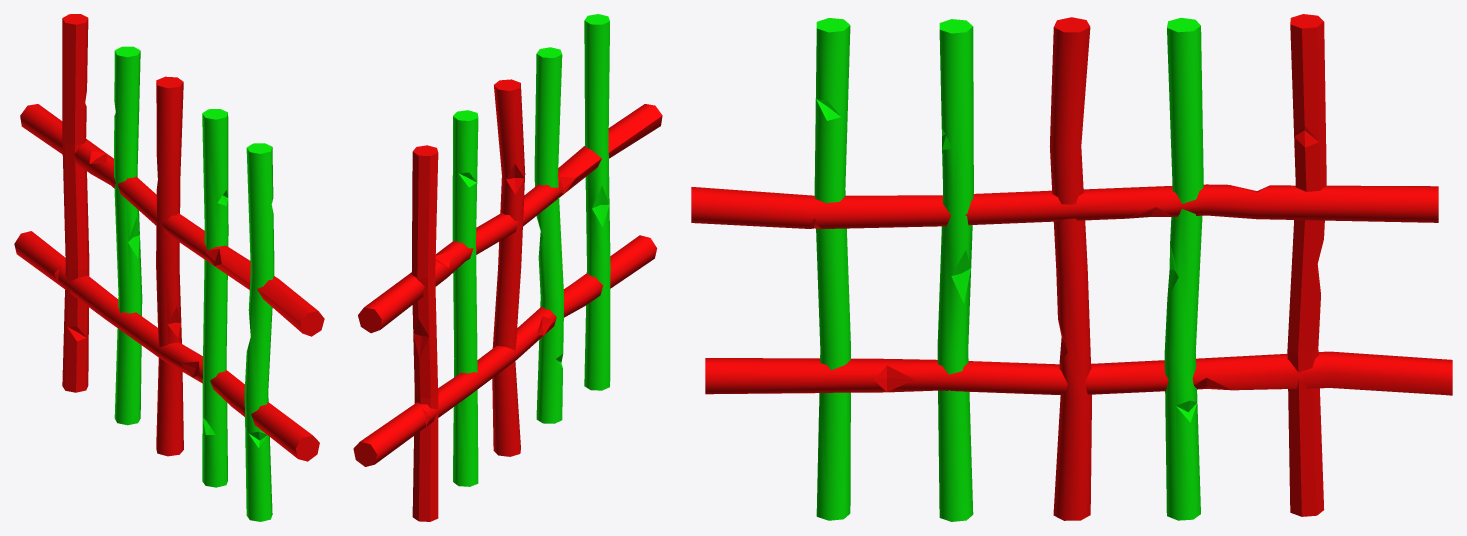
The model's file is SM_Grill_1.fbx.
The picture shows the model from 3 angles, left to right: view 1: azimuth 30°, elevation 25°; view 2: azimuth 150°, elevation 25°; view 3: azimuth 270°, elevation 25°; orthographic projection. The views are drawn at different scales.
Parts seen in each view (by area): view 1: Mesh; view 2: Mesh; view 3: Mesh.
Boxes of the visible parts, left/top/right/bottom form: Mesh: left=14, top=14, right=324, bottom=521; Mesh: left=353, top=14, right=662, bottom=521; Mesh: left=691, top=14, right=1452, bottom=521.
Bounding box in the file's own units: 19.76 × 200 × 283.
